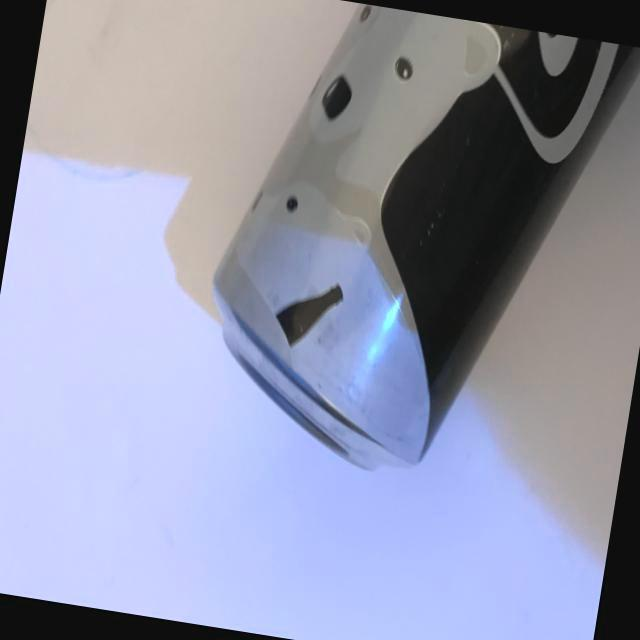metal: (168, 0, 640, 518)
